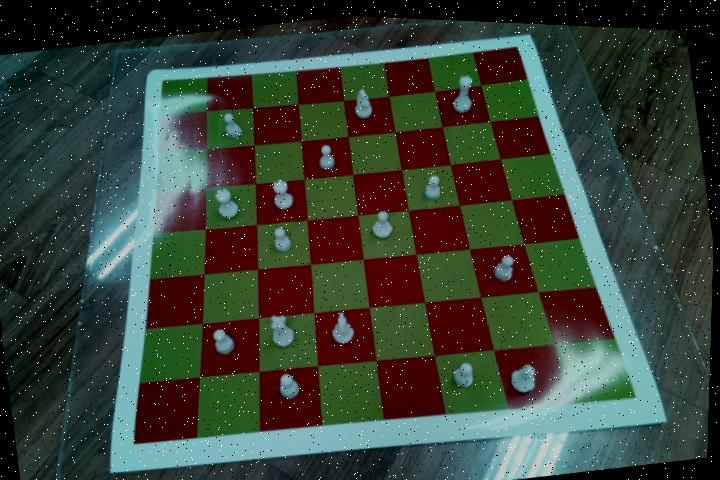chessboard-detect: (134, 42, 639, 442)
